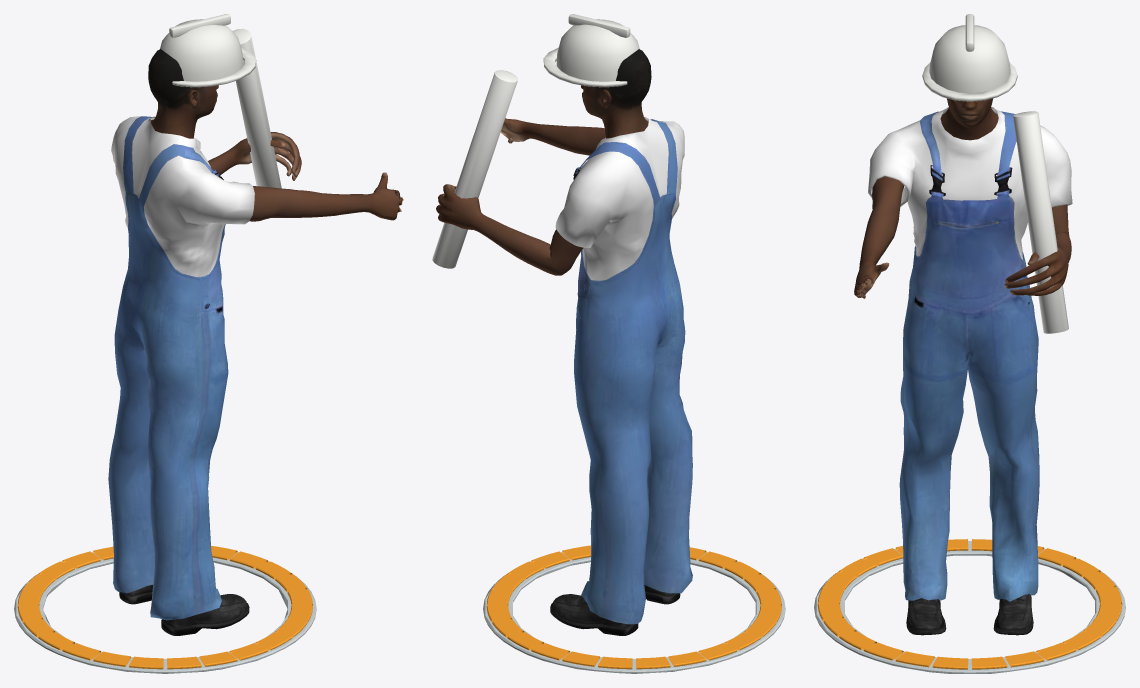
The model's file is MDO-TEC-002_lod1.glb.
The picture shows the model from 3 angles, left to right: view 1: azimuth 30°, elevation 25°; view 2: azimuth 150°, elevation 25°; view 3: azimuth 270°, elevation 25°; orthographic projection. The views are drawn at different scales.
Visible parts, largest first — view 1: MDO-TEC-002_pessoa_male_worksuit01, MDO-TEC-002_pessoa, MDO-TEC-002_capacete, MDO-TEC-002_anel_fundo, MDO-TEC-002_ferE_planta, MDO-TEC-002_pessoa_shoes04, MDO-TEC-002_capacete_aba, MDO-TEC-002_capacete_friso; view 2: MDO-TEC-002_pessoa_male_worksuit01, MDO-TEC-002_pessoa, MDO-TEC-002_ferE_planta, MDO-TEC-002_capacete, MDO-TEC-002_anel_fundo, MDO-TEC-002_pessoa_shoes04, MDO-TEC-002_capacete_aba, MDO-TEC-002_capacete_friso; view 3: MDO-TEC-002_pessoa_male_worksuit01, MDO-TEC-002_pessoa, MDO-TEC-002_ferE_planta, MDO-TEC-002_capacete, MDO-TEC-002_anel_fundo, MDO-TEC-002_pessoa_shoes04, MDO-TEC-002_capacete_aba.
Boxes of the visible parts, x1,y1,x2,y2 form: MDO-TEC-002_pessoa_male_worksuit01: (108, 116, 254, 620); MDO-TEC-002_pessoa: (148, 49, 403, 221); MDO-TEC-002_capacete: (160, 19, 243, 81); MDO-TEC-002_anel_fundo: (14, 552, 316, 673); MDO-TEC-002_ferE_planta: (232, 28, 281, 188); MDO-TEC-002_pessoa_shoes04: (119, 585, 249, 635); MDO-TEC-002_capacete_aba: (172, 47, 256, 87); MDO-TEC-002_capacete_friso: (169, 14, 230, 37); MDO-TEC-002_pessoa_male_worksuit01: (555, 117, 692, 624); MDO-TEC-002_pessoa: (436, 49, 651, 275); MDO-TEC-002_ferE_planta: (432, 70, 517, 268); MDO-TEC-002_capacete: (556, 19, 639, 81); MDO-TEC-002_anel_fundo: (483, 552, 785, 673); MDO-TEC-002_pessoa_shoes04: (550, 578, 680, 635); MDO-TEC-002_capacete_aba: (543, 47, 627, 87); MDO-TEC-002_capacete_friso: (568, 14, 630, 37); MDO-TEC-002_pessoa_male_worksuit01: (868, 107, 1072, 601); MDO-TEC-002_pessoa: (854, 98, 1071, 298); MDO-TEC-002_ferE_planta: (1013, 111, 1068, 333); MDO-TEC-002_capacete: (929, 25, 1010, 93); MDO-TEC-002_anel_fundo: (814, 541, 1125, 673); MDO-TEC-002_pessoa_shoes04: (906, 594, 1033, 635); MDO-TEC-002_capacete_aba: (922, 62, 1017, 101).
Size of the model in its own units: 1.02 by 1.79 by 0.84.
Materials: 9 (5 with a texture image).
